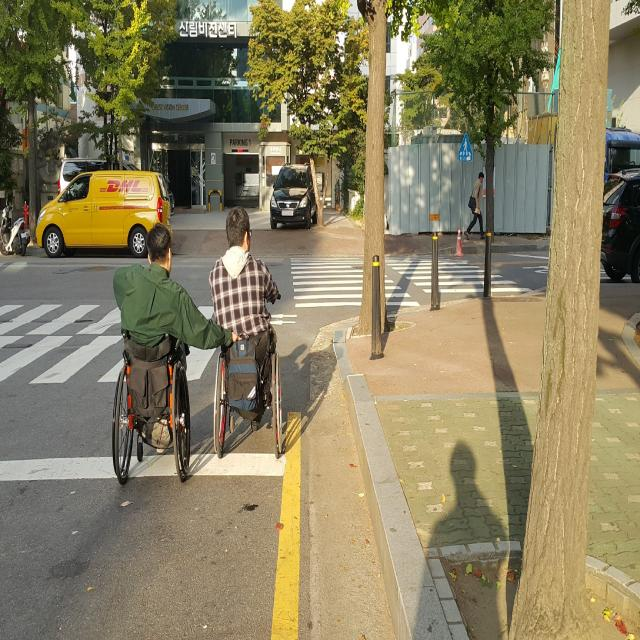횡단보도: (0, 279, 302, 388), (290, 256, 534, 308)
